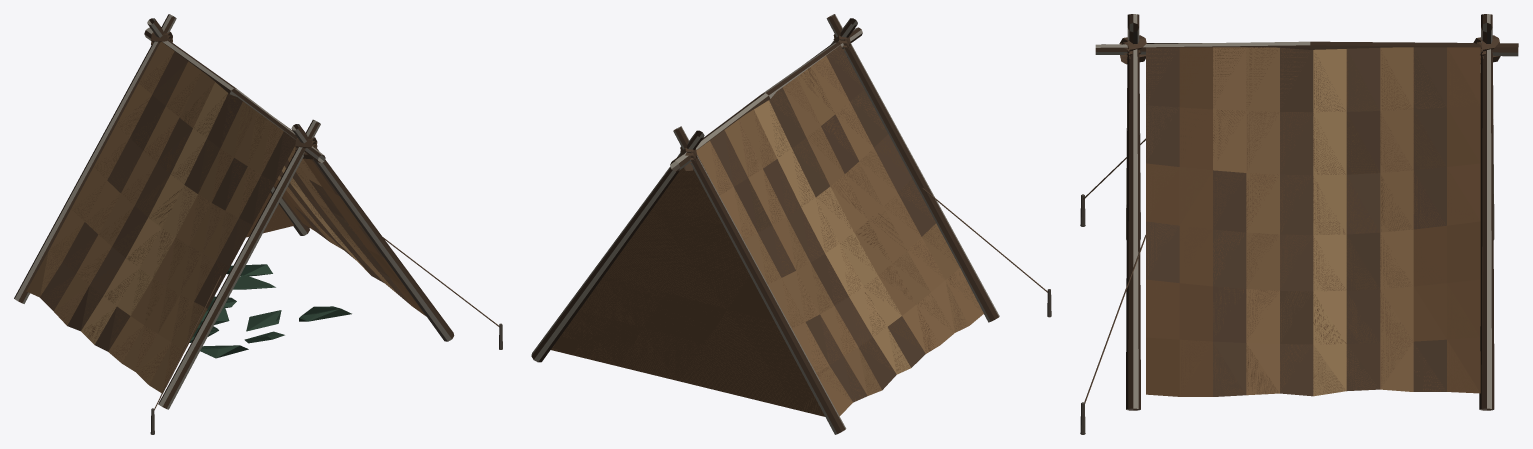
File: shelter.glb
The picture shows the model from 3 angles, left to right: view 1: azimuth 30°, elevation 25°; view 2: azimuth 150°, elevation 25°; view 3: azimuth 270°, elevation 25°; orthographic projection. The views are drawn at different scales.
Visible parts, largest first — view 1: shelter; view 2: shelter; view 3: shelter.
Part boxes in pixels (x1,y1,x2,y2): shelter: (14, 14, 502, 434); shelter: (531, 14, 1051, 434); shelter: (1080, 14, 1518, 434).
Size of the model in its own units: 3.93 by 2.73 by 3.47.
